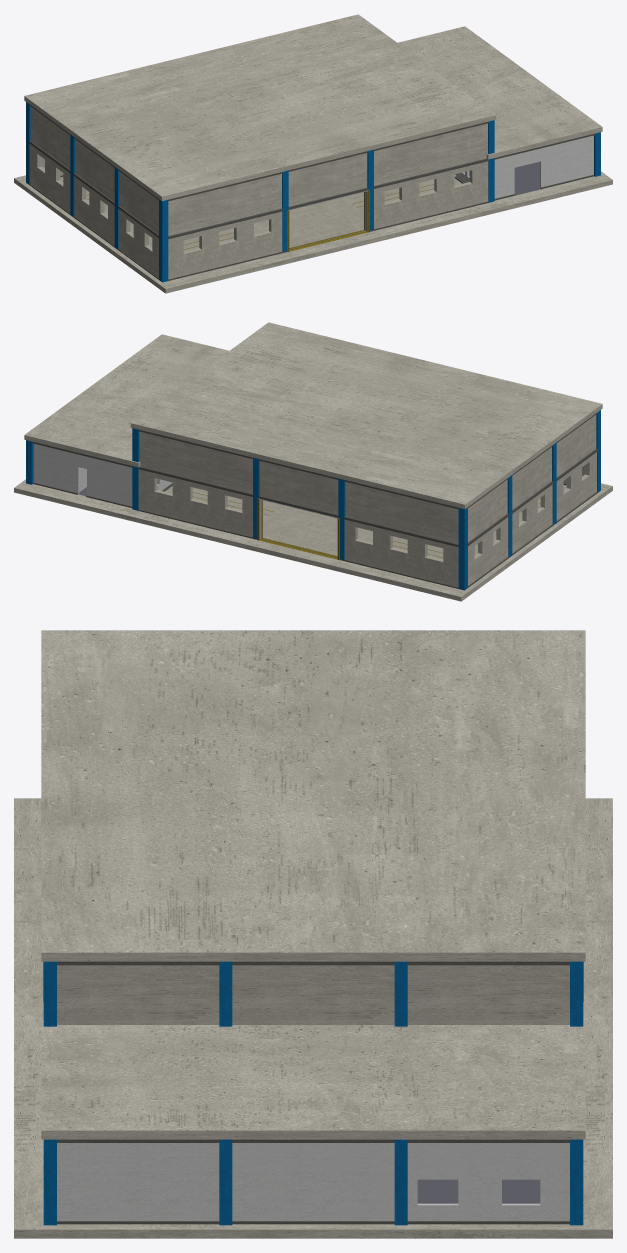
File: autoshop_01_basic.glb
The picture shows the model from 3 angles, top to bottom: view 1: azimuth 30°, elevation 25°; view 2: azimuth 150°, elevation 25°; view 3: azimuth 270°, elevation 25°; orthographic projection. The views are drawn at different scales.
Parts seen in each view (by area): view 1: Object_3, Object_7, Object_5, Object_8, Object_6, Object_4, Object_9; view 2: Object_3, Object_5, Object_7, Object_6, Object_8, Object_4; view 3: Object_3, Object_6, Object_8, Object_5, Object_9.
Part boxes in pixels (<box>): Object_3: <box>14,14,612,293</box>; Object_7: <box>60,177,461,251</box>; Object_5: <box>29,104,595,280</box>; Object_8: <box>26,102,600,282</box>; Object_6: <box>456,135,593,198</box>; Object_4: <box>287,190,369,251</box>; Object_9: <box>455,161,540,195</box>; Object_3: <box>14,322,612,601</box>; Object_5: <box>31,412,597,588</box>; Object_7: <box>165,485,566,559</box>; Object_6: <box>33,444,172,506</box>; Object_8: <box>26,410,600,590</box>; Object_4: <box>257,498,339,559</box>; Object_3: <box>14,630,612,1238</box>; Object_6: <box>57,1143,569,1220</box>; Object_8: <box>43,961,583,1225</box>; Object_5: <box>57,961,569,1224</box>; Object_9: <box>417,1179,540,1203</box>.
Bounding box in the file's own units: 1234 × 240 × 724.
8 materials, 8 textured.
